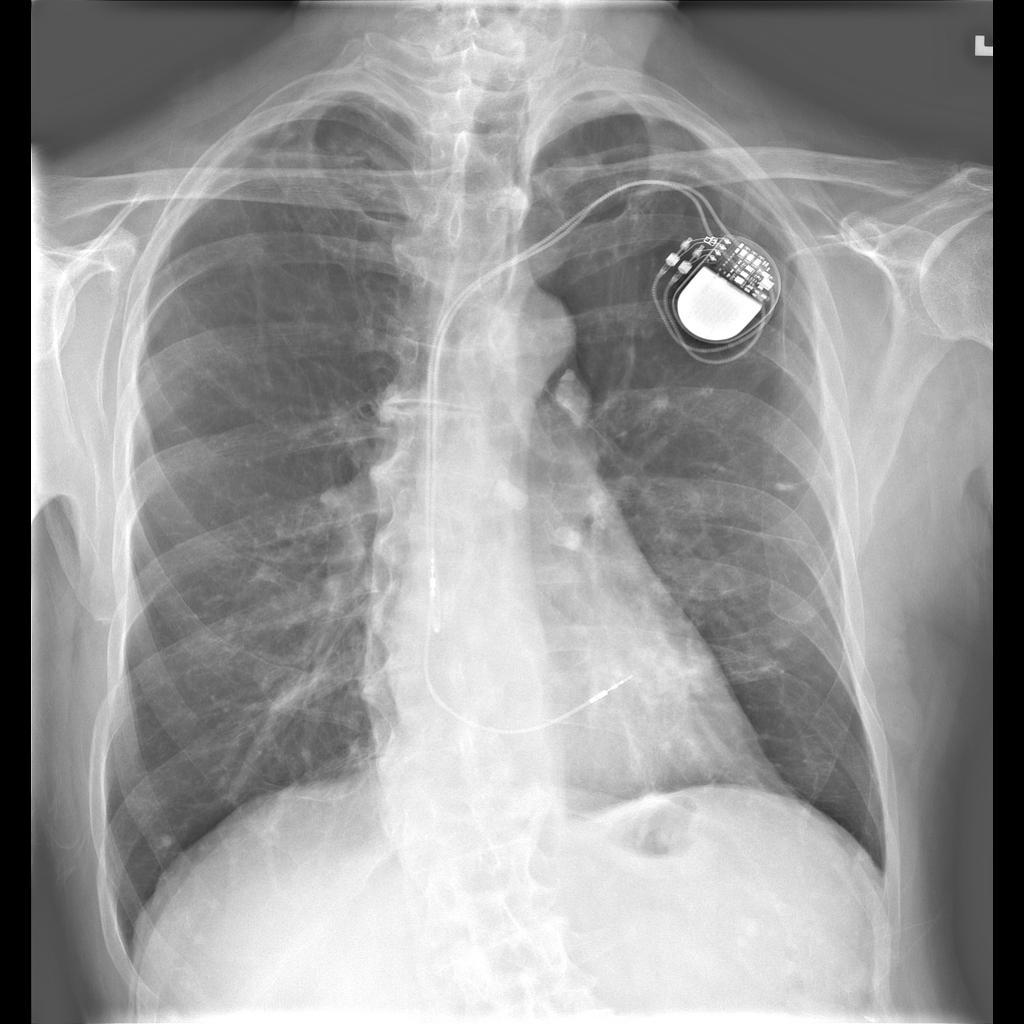Nodule: (605, 634, 682, 691)
